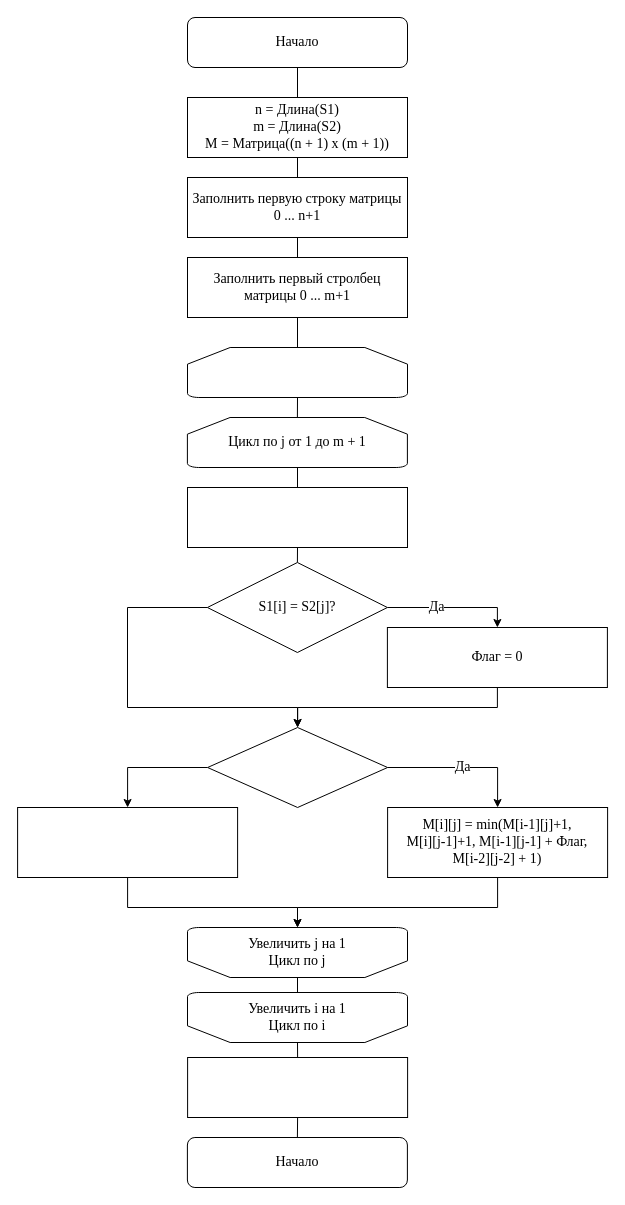
This 625x1205 diagram has some shape labels left out. The centre of each missing label's shape, as x and y in pixels:
i > 0 & j > 0 & S1[i]=S2[j-1] & S1[i-1]=S2[j]?: pixel 297 767
M[i][j] = min(M[i-1][j]+1, M[i][j-1]+1, M[i-1][j-1] + Флаг): pixel 127 842
Вернуть M[n][m]: pixel 297 1087
Флаг = 1: pixel 297 517
Цикл по i от 1 до n + 1: pixel 297 372
